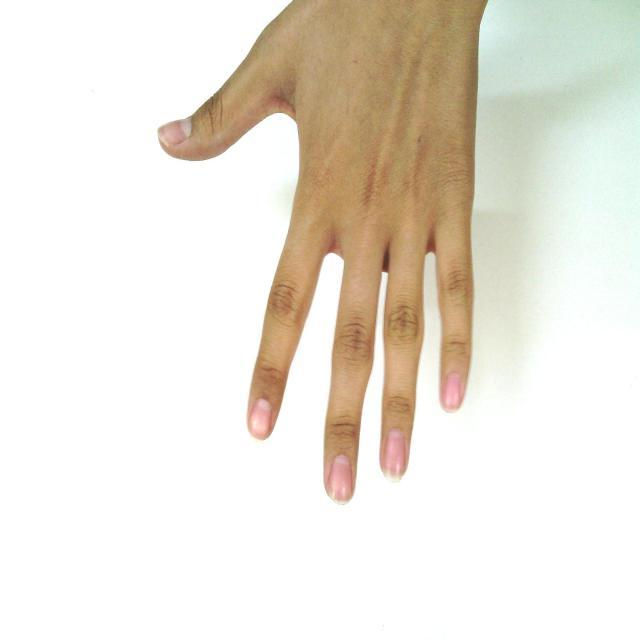Fingernail: (383, 429, 405, 482), (329, 456, 352, 504), (159, 119, 193, 146), (251, 399, 270, 438), (443, 373, 461, 410)
